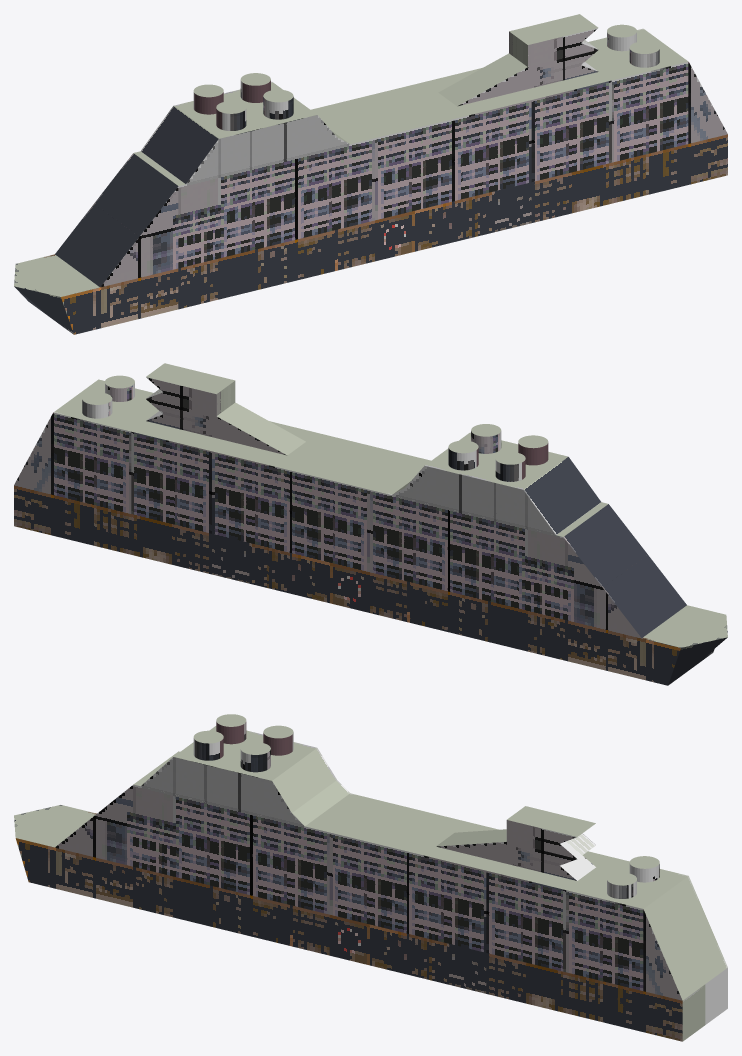
Rendered from boat.glb.
3 views of the same model, one above another, from view 1: azimuth 30°, elevation 25°; view 2: azimuth 150°, elevation 25°; view 3: azimuth 330°, elevation 25° (orthographic).
Parts seen in each view (by area): view 1: Cube.024; view 2: Cube.024; view 3: Cube.024.
Boxes of the visible parts, x1,y1,x2,y2 form: Cube.024: (14, 14, 727, 334); Cube.024: (14, 363, 727, 685); Cube.024: (14, 714, 727, 1041).
Bounding box in the file's own units: 52.85 × 13 × 6.
1 material, 1 textured.
